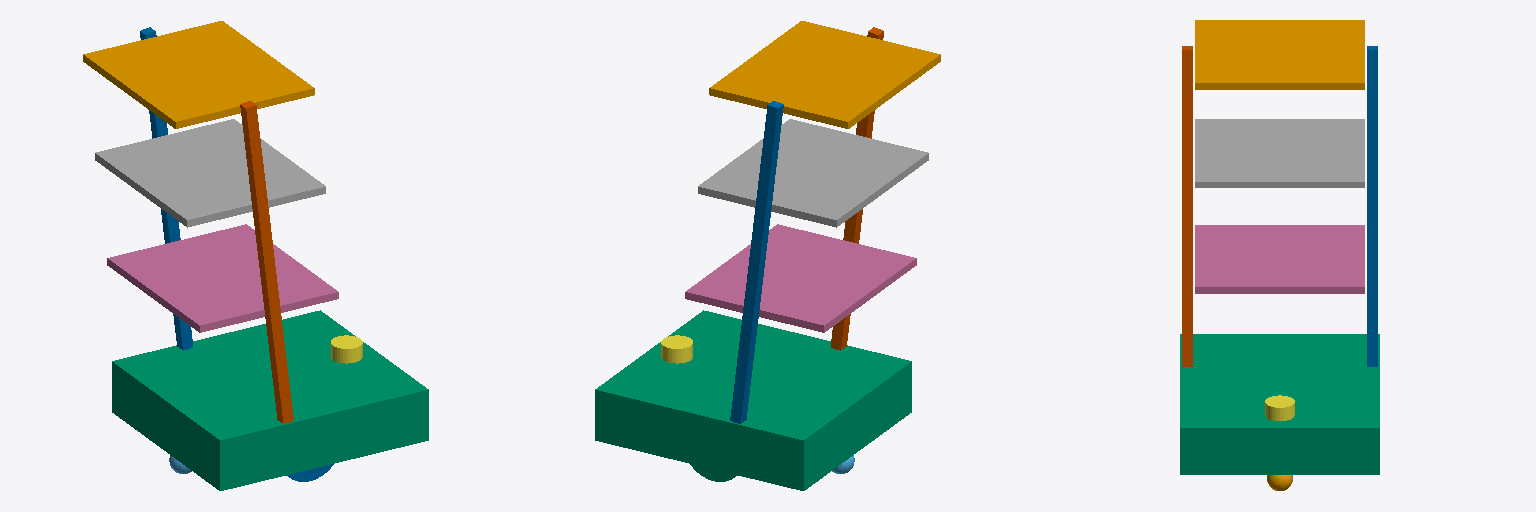
URDF robot description (amr-1):
<robot name="amr-1">
  <link name="caster-front/ball">
    <inertial><origin xyz="0 0 0" rpy="0 0 0" /><mass value="0.15" /><inertia ixx="7.350000000000001e-05" ixy="0" ixz="0" iyy="7.350000000000001e-05" iyz="0" izz="7.350000000000001e-05" /></inertial>
    <visual><origin xyz="0 0 0" rpy="0 0 0" /><geometry><sphere radius="0.035" /></geometry></visual>
    <collision name="caster-front_ball_collision_0"><origin xyz="0 0 0" rpy="0 0 0" /><geometry><sphere radius="0.035" /></geometry></collision>
  </link>
  <link name="caster-rear/ball">
    <inertial><origin xyz="0 0 0" rpy="0 0 0" /><mass value="0.15" /><inertia ixx="7.350000000000001e-05" ixy="0" ixz="0" iyy="7.350000000000001e-05" iyz="0" izz="7.350000000000001e-05" /></inertial>
    <visual><origin xyz="0 0 0" rpy="0 0 0" /><geometry><sphere radius="0.035" /></geometry></visual>
    <collision name="caster-rear_ball_collision_0"><origin xyz="0 0 0" rpy="0 0 0" /><geometry><sphere radius="0.035" /></geometry></collision>
  </link>
  <link name="chassis/base">
    <inertial><origin xyz="0 0 0.05" rpy="0 0 0" /><mass value="14" /><inertia ixx="0.3630666666666667" ixy="0" ixz="0" iyy="0.4428666666666667" iyz="0" izz="0.7601999999999999" /></inertial>
    <visual><origin xyz="0 0 0.05" rpy="0 0 0" /><geometry><box size="0.6 0.54 0.14" /></geometry></visual>
    <collision name="chassis_base_collision_0"><origin xyz="0 0 0.05" rpy="0 0 0" /><geometry><box size="0.6 0.54 0.14" /></geometry></collision>
  </link>
  <link name="lidar/head">
    <inertial><origin xyz="0 0 0.02" rpy="0 0 0" /><mass value="0.19" /><inertia ixx="0.00010133333333333332" ixy="0" ixz="0" iyy="0.00010133333333333332" iyz="0" izz="0.000152" /></inertial>
    <visual><origin xyz="0 0 0.02" rpy="0 0 0" /><geometry><cylinder radius="0.04" length="0.04" /></geometry></visual>
    <collision name="lidar_head_collision_0"><origin xyz="0 0 0.02" rpy="0 0 0" /><geometry><cylinder radius="0.04" length="0.04" /></geometry></collision>
  </link>
  <link name="support-left/rod">
    <inertial><origin xyz="0 0 0.45" rpy="0 0 0" /><mass value="0.35" /><inertia ixx="0.02365125" ixy="0" ixz="0" iyy="0.02365125" iyz="0" izz="5.2499999999999995e-05" /></inertial>
    <visual><origin xyz="0 0 0.45" rpy="0 0 0" /><geometry><box size="0.03 0.03 0.9" /></geometry></visual>
    <collision name="support-left_rod_collision_0"><origin xyz="0 0 0.45" rpy="0 0 0" /><geometry><box size="0.03 0.03 0.9" /></geometry></collision>
  </link>
  <link name="support-right/rod">
    <inertial><origin xyz="0 0 0.45" rpy="0 0 0" /><mass value="0.35" /><inertia ixx="0.02365125" ixy="0" ixz="0" iyy="0.02365125" iyz="0" izz="5.2499999999999995e-05" /></inertial>
    <visual><origin xyz="0 0 0.45" rpy="0 0 0" /><geometry><box size="0.03 0.03 0.9" /></geometry></visual>
    <collision name="support-right_rod_collision_0"><origin xyz="0 0 0.45" rpy="0 0 0" /><geometry><box size="0.03 0.03 0.9" /></geometry></collision>
  </link>
  <link name="tray-1/plate">
    <inertial><origin xyz="0 0 0" rpy="0 0 0" /><mass value="0.8" /><inertia ixx="0.014133333333333336" ixy="0" ixz="0" iyy="0.010693333333333338" iyz="0" izz="0.024773333333333338" /></inertial>
    <visual><origin xyz="0 0 0" rpy="0 0 0" /><geometry><box size="0.4 0.46 0.02" /></geometry></visual>
    <collision name="tray-1_plate_collision_0"><origin xyz="0 0 0" rpy="0 0 0" /><geometry><box size="0.4 0.46 0.02" /></geometry></collision>
  </link>
  <link name="tray-2/plate">
    <inertial><origin xyz="0 0 0" rpy="0 0 0" /><mass value="0.8" /><inertia ixx="0.014133333333333336" ixy="0" ixz="0" iyy="0.010693333333333338" iyz="0" izz="0.024773333333333338" /></inertial>
    <visual><origin xyz="0 0 0" rpy="0 0 0" /><geometry><box size="0.4 0.46 0.02" /></geometry></visual>
    <collision name="tray-2_plate_collision_0"><origin xyz="0 0 0" rpy="0 0 0" /><geometry><box size="0.4 0.46 0.02" /></geometry></collision>
  </link>
  <link name="tray-3/plate">
    <inertial><origin xyz="0 0 0" rpy="0 0 0" /><mass value="0.8" /><inertia ixx="0.014133333333333336" ixy="0" ixz="0" iyy="0.010693333333333338" iyz="0" izz="0.024773333333333338" /></inertial>
    <visual><origin xyz="0 0 0" rpy="0 0 0" /><geometry><box size="0.4 0.46 0.02" /></geometry></visual>
    <collision name="tray-3_plate_collision_0"><origin xyz="0 0 0" rpy="0 0 0" /><geometry><box size="0.4 0.46 0.02" /></geometry></collision>
  </link>
  <link name="wheel-left/hub">
    <inertial><origin xyz="0 0 0" rpy="0 0 0" /><mass value="0.2" /><inertia ixx="5.333333333333334e-05" ixy="0" ixz="0" iyy="5.333333333333334e-05" iyz="0" izz="5.333333333333334e-05" /></inertial>
    <visual><origin xyz="0 0 0" rpy="0 0 0" /><geometry><box size="0.04 0.04 0.04" /></geometry></visual>
    <collision name="wheel-left_hub_collision_0"><origin xyz="0 0 0" rpy="0 0 0" /><geometry><box size="0.04 0.04 0.04" /></geometry></collision>
  </link>
  <link name="wheel-left/rim">
    <inertial><origin xyz="0 0 0" rpy="0 0 0" /><mass value="1.2" /><inertia ixx="0.0025900000000000003" ixy="0" ixz="0" iyy="0.0048600000000000015" iyz="0" izz="0.002590000000000001" /></inertial>
    <visual><origin xyz="0 0 0" rpy="1.5707963267948968 0 0" /><geometry><cylinder radius="0.09" length="0.04" /></geometry></visual>
    <collision name="wheel-left_rim_collision_0"><origin xyz="0 0 0" rpy="1.5707963267948968 0 0" /><geometry><cylinder radius="0.09" length="0.04" /></geometry></collision>
  </link>
  <link name="wheel-right/hub">
    <inertial><origin xyz="0 0 0" rpy="0 0 0" /><mass value="0.2" /><inertia ixx="5.333333333333334e-05" ixy="0" ixz="0" iyy="5.333333333333334e-05" iyz="0" izz="5.333333333333334e-05" /></inertial>
    <visual><origin xyz="0 0 0" rpy="0 0 0" /><geometry><box size="0.04 0.04 0.04" /></geometry></visual>
    <collision name="wheel-right_hub_collision_0"><origin xyz="0 0 0" rpy="0 0 0" /><geometry><box size="0.04 0.04 0.04" /></geometry></collision>
  </link>
  <link name="wheel-right/rim">
    <inertial><origin xyz="0 0 0" rpy="0 0 0" /><mass value="1.2" /><inertia ixx="0.0025900000000000003" ixy="0" ixz="0" iyy="0.0048600000000000015" iyz="0" izz="0.002590000000000001" /></inertial>
    <visual><origin xyz="0 0 0" rpy="1.5707963267948968 0 0" /><geometry><cylinder radius="0.09" length="0.04" /></geometry></visual>
    <collision name="wheel-right_rim_collision_0"><origin xyz="0 0 0" rpy="1.5707963267948968 0 0" /><geometry><cylinder radius="0.09" length="0.04" /></geometry></collision>
  </link>
  <joint name="mount:chassis/caster-front:caster-front/mount" type="fixed">
    <parent link="chassis/base" /><child link="caster-front/ball" />
    <origin xyz="0.25 0 -0.05499999999999999" rpy="0 0 0" />
    <axis xyz="0 0 1" />
  </joint>
  <joint name="mount:chassis/caster-rear:caster-rear/mount" type="fixed">
    <parent link="chassis/base" /><child link="caster-rear/ball" />
    <origin xyz="-0.25 0 -0.05499999999999999" rpy="0 0 0" />
    <axis xyz="0 0 1" />
  </joint>
  <joint name="mount:chassis/left-axle:wheel-left/mount" type="fixed">
    <parent link="chassis/base" /><child link="wheel-left/hub" />
    <origin xyz="0 0.18 0" rpy="0 0 0" />
    <axis xyz="0 0 1" />
  </joint>
  <joint name="mount:chassis/lidar-mount:lidar/foot" type="fixed">
    <parent link="chassis/base" /><child link="lidar/head" />
    <origin xyz="0.22 0 0.12" rpy="0 0 0" />
    <axis xyz="0 0 1" />
  </joint>
  <joint name="mount:chassis/right-axle:wheel-right/mount" type="fixed">
    <parent link="chassis/base" /><child link="wheel-right/hub" />
    <origin xyz="0 -0.18 0" rpy="0 0 0" />
    <axis xyz="0 0 1" />
  </joint>
  <joint name="mount:chassis/support-left:support-left/foot" type="fixed">
    <parent link="chassis/base" /><child link="support-left/rod" />
    <origin xyz="-0.1 0.25 0.12" rpy="0 -0.12 0" />
    <axis xyz="0 0 1" />
  </joint>
  <joint name="mount:chassis/support-right:support-right/foot" type="fixed">
    <parent link="chassis/base" /><child link="support-right/rod" />
    <origin xyz="-0.1 -0.25 0.12" rpy="0 -0.12 0" />
    <axis xyz="0 0 1" />
  </joint>
  <joint name="mount:support-left/slot-1:tray-1/edge" type="fixed">
    <parent link="support-left/rod" /><child link="tray-1/plate" />
    <origin xyz="0 -0.25 0.3" rpy="0 0.12 0" />
    <axis xyz="0 0 1" />
  </joint>
  <joint name="mount:support-left/slot-2:tray-2/edge" type="fixed">
    <parent link="support-left/rod" /><child link="tray-2/plate" />
    <origin xyz="0 -0.25 0.6" rpy="0 0.12 0" />
    <axis xyz="0 0 1" />
  </joint>
  <joint name="mount:support-left/slot-3:tray-3/edge" type="fixed">
    <parent link="support-left/rod" /><child link="tray-3/plate" />
    <origin xyz="0 -0.25 0.88" rpy="0 0.12 0" />
    <axis xyz="0 0 1" />
  </joint>
  <joint name="wheel-left/axle" type="continuous">
    <parent link="wheel-left/hub" /><child link="wheel-left/rim" />
    <origin xyz="0 0 0" rpy="0 0 0" />
    <axis xyz="0 1 0" />
    <limit effort="6" velocity="20" />
  </joint>
  <joint name="wheel-right/axle" type="continuous">
    <parent link="wheel-right/hub" /><child link="wheel-right/rim" />
    <origin xyz="0 0 0" rpy="0 0 0" />
    <axis xyz="0 1 0" />
    <limit effort="6" velocity="20" />
  </joint>
<gazebo reference="caster-front/ball"><mu1>0.02</mu1><mu2>0.02</mu2></gazebo><gazebo reference="caster-rear/ball"><mu1>0.02</mu1><mu2>0.02</mu2></gazebo><gazebo reference="chassis/base"><mu1>0.8</mu1><mu2>0.8</mu2></gazebo><gazebo reference="lidar/head"><mu1>0.8</mu1><mu2>0.8</mu2></gazebo><gazebo reference="support-left/rod"><mu1>0.8</mu1><mu2>0.8</mu2></gazebo><gazebo reference="support-right/rod"><mu1>0.8</mu1><mu2>0.8</mu2></gazebo><gazebo reference="tray-1/plate"><mu1>0.8</mu1><mu2>0.8</mu2></gazebo><gazebo reference="tray-2/plate"><mu1>0.8</mu1><mu2>0.8</mu2></gazebo><gazebo reference="tray-3/plate"><mu1>0.8</mu1><mu2>0.8</mu2></gazebo><gazebo reference="wheel-left/hub"><mu1>0.8</mu1><mu2>0.8</mu2></gazebo><gazebo reference="wheel-left/rim"><mu1>0.8</mu1><mu2>0.8</mu2></gazebo><gazebo reference="wheel-right/hub"><mu1>0.8</mu1><mu2>0.8</mu2></gazebo><gazebo reference="wheel-right/rim"><mu1>0.8</mu1><mu2>0.8</mu2></gazebo><gazebo reference="mount:chassis/caster-front:caster-front/mount"><preserveFixedJoint>true</preserveFixedJoint></gazebo><gazebo reference="mount:chassis/caster-rear:caster-rear/mount"><preserveFixedJoint>true</preserveFixedJoint></gazebo><gazebo reference="mount:chassis/left-axle:wheel-left/mount"><preserveFixedJoint>true</preserveFixedJoint></gazebo><gazebo reference="mount:chassis/lidar-mount:lidar/foot"><preserveFixedJoint>true</preserveFixedJoint></gazebo><gazebo reference="mount:chassis/right-axle:wheel-right/mount"><preserveFixedJoint>true</preserveFixedJoint></gazebo><gazebo reference="mount:chassis/support-left:support-left/foot"><preserveFixedJoint>true</preserveFixedJoint></gazebo><gazebo reference="mount:chassis/support-right:support-right/foot"><preserveFixedJoint>true</preserveFixedJoint></gazebo><gazebo reference="mount:support-left/slot-1:tray-1/edge"><preserveFixedJoint>true</preserveFixedJoint></gazebo><gazebo reference="mount:support-left/slot-2:tray-2/edge"><preserveFixedJoint>true</preserveFixedJoint></gazebo><gazebo reference="mount:support-left/slot-3:tray-3/edge"><preserveFixedJoint>true</preserveFixedJoint></gazebo><ros2_control name="GazeboSimSystem" type="system"><hardware><plugin>gz_ros2_control/GazeboSimSystem</plugin></hardware><joint name="wheel-left/axle"><command_interface name="velocity"><param name="min">-20</param><param name="max">20</param></command_interface><state_interface name="position" /><state_interface name="velocity" /></joint><joint name="wheel-right/axle"><command_interface name="velocity"><param name="min">-20</param><param name="max">20</param></command_interface><state_interface name="position" /><state_interface name="velocity" /></joint></ros2_control><gazebo><plugin filename="libgz_ros2_control-system.so" name="gz_ros2_control::GazeboSimROS2ControlPlugin"><parameters>__ENGINEERING_CONTROLLER_FILE__</parameters><ros><namespace>amr_1</namespace><remapping>/tf:=tf</remapping><remapping>/tf_static:=tf_static</remapping><remapping>diff_drive_controller/odom:=odom</remapping></ros></plugin></gazebo><gazebo><plugin filename="gz-sim-pose-publisher-system" name="gz::sim::systems::PosePublisher"><publish_model_pose>true</publish_model_pose><publish_link_pose>false</publish_link_pose><use_pose_vector_msg>true</use_pose_vector_msg><update_frequency>50</update_frequency></plugin></gazebo><gazebo reference="lidar/head"><sensor name="engineering_lidar" type="gpu_lidar"><topic>/amr_1/scan</topic><update_rate>10</update_rate><always_on>true</always_on><gz_frame_id>lidar/head</gz_frame_id><lidar><scan><horizontal><samples>360</samples><resolution>1</resolution><min_angle>-3.141592653589793</min_angle><max_angle>3.141592653589793</max_angle></horizontal></scan><range><min>0.05</min><max>10</max><resolution>0.01</resolution></range></lidar></sensor></gazebo><gazebo reference="chassis/base"><sensor name="engineering_contact" type="contact"><always_on>true</always_on><update_rate>50</update_rate><topic>/model/amr_1/contacts</topic><contact><collision>chassis_base_collision_0</collision></contact></sensor></gazebo></robot>

--- Render facts (derived) ---
Views: 3 orthographic renders of the robot side by side, from view 1: azimuth 30°, elevation 25°; view 2: azimuth 150°, elevation 25°; view 3: azimuth 270°, elevation 25°.
Model amr-1 with 13 links and 12 joints (2 continuous, 10 fixed), rooted at chassis/base, posed all joints at 0.
Visible links, largest first — view 1: chassis/base, tray-3/plate, tray-1/plate, tray-2/plate, support-right/rod, support-left/rod, lidar/head; view 2: chassis/base, tray-3/plate, tray-1/plate, tray-2/plate, support-left/rod, support-right/rod, lidar/head; view 3: chassis/base, tray-3/plate, tray-1/plate, tray-2/plate, support-left/rod, support-right/rod, lidar/head.
Link boxes in pixels (<box>): chassis/base: <box>112,310,428,490</box>; tray-3/plate: <box>83,21,314,128</box>; tray-1/plate: <box>107,224,338,332</box>; tray-2/plate: <box>95,119,325,227</box>; support-right/rod: <box>240,101,293,423</box>; support-left/rod: <box>140,27,192,350</box>; lidar/head: <box>331,335,362,363</box>; chassis/base: <box>595,310,911,490</box>; tray-3/plate: <box>709,21,940,128</box>; tray-1/plate: <box>685,224,916,332</box>; tray-2/plate: <box>698,119,928,227</box>; support-left/rod: <box>730,101,783,423</box>; support-right/rod: <box>831,27,883,350</box>; lidar/head: <box>661,335,692,363</box>; chassis/base: <box>1180,334,1379,474</box>; tray-3/plate: <box>1195,20,1364,89</box>; tray-1/plate: <box>1195,225,1364,293</box>; tray-2/plate: <box>1195,119,1364,187</box>; support-left/rod: <box>1367,46,1377,366</box>; support-right/rod: <box>1182,46,1192,366</box>; lidar/head: <box>1265,395,1294,420</box>.
Bounding box of the posed robot: 0.7053 × 0.54 × 1.11 m (x, y, z).
Geometry: primitives only (box / cylinder / sphere), no mesh files.
